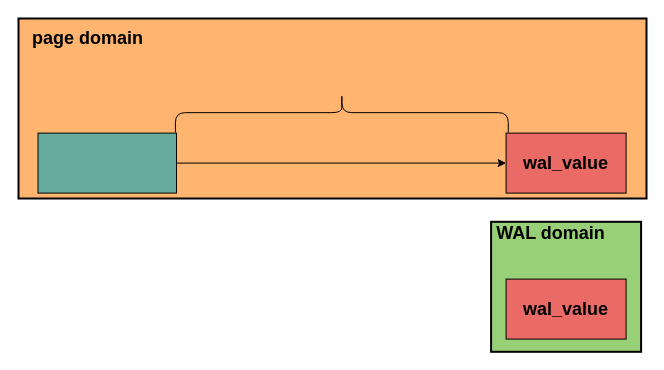
This 664x370 diagram has some shape labels left out. The shapes that lost their labels are listed below. From the top down, each one's centre as x and y in pixels, then its label:
At pixel 341 112: "log_cnt:32".
At pixel 106 162: "last_value".
